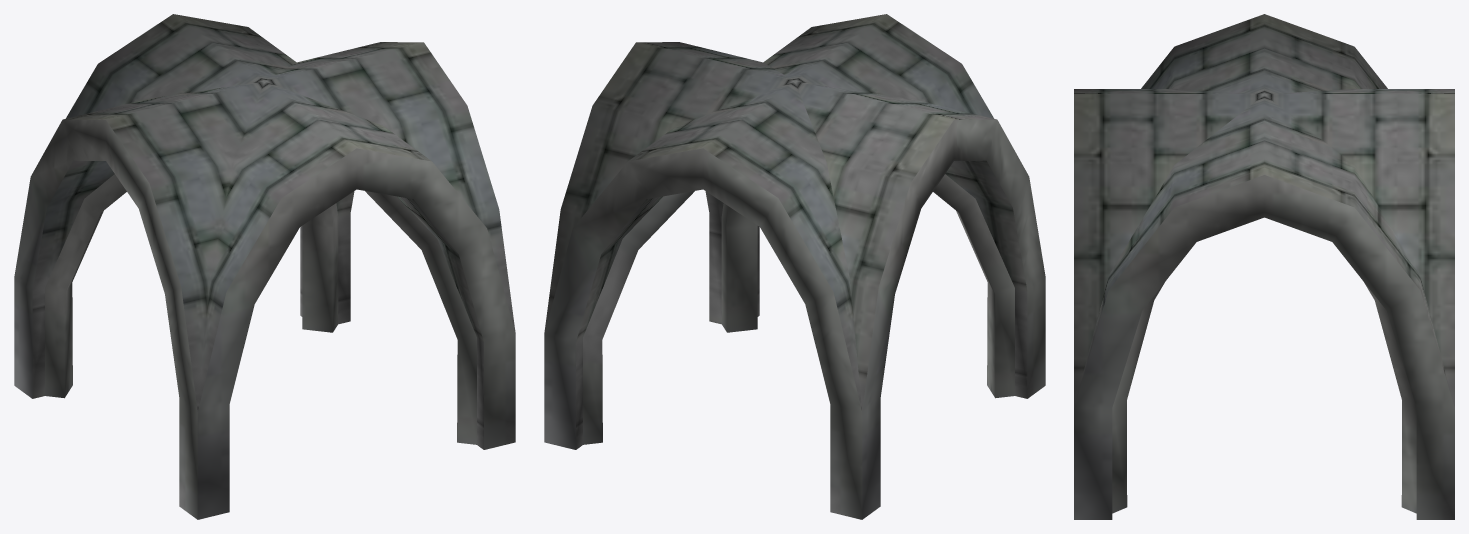
The model's file is sd_vault_ceiling_small_01.glb.
The picture shows the model from 3 angles, left to right: view 1: azimuth 30°, elevation 25°; view 2: azimuth 150°, elevation 25°; view 3: azimuth 270°, elevation 25°; orthographic projection. The views are drawn at different scales.
Parts seen in each view (by area): view 1: vault_ceiling_small_01; view 2: vault_ceiling_small_01; view 3: vault_ceiling_small_01.
Boxes of the visible parts, x1=… form: vault_ceiling_small_01: x1=14, y1=14, x2=515, y2=519; vault_ceiling_small_01: x1=544, y1=14, x2=1045, y2=519; vault_ceiling_small_01: x1=1074, y1=14, x2=1454, y2=519.
Size of the model in its own units: 2 by 2 by 2.
Materials: 1 (1 with a texture image).
